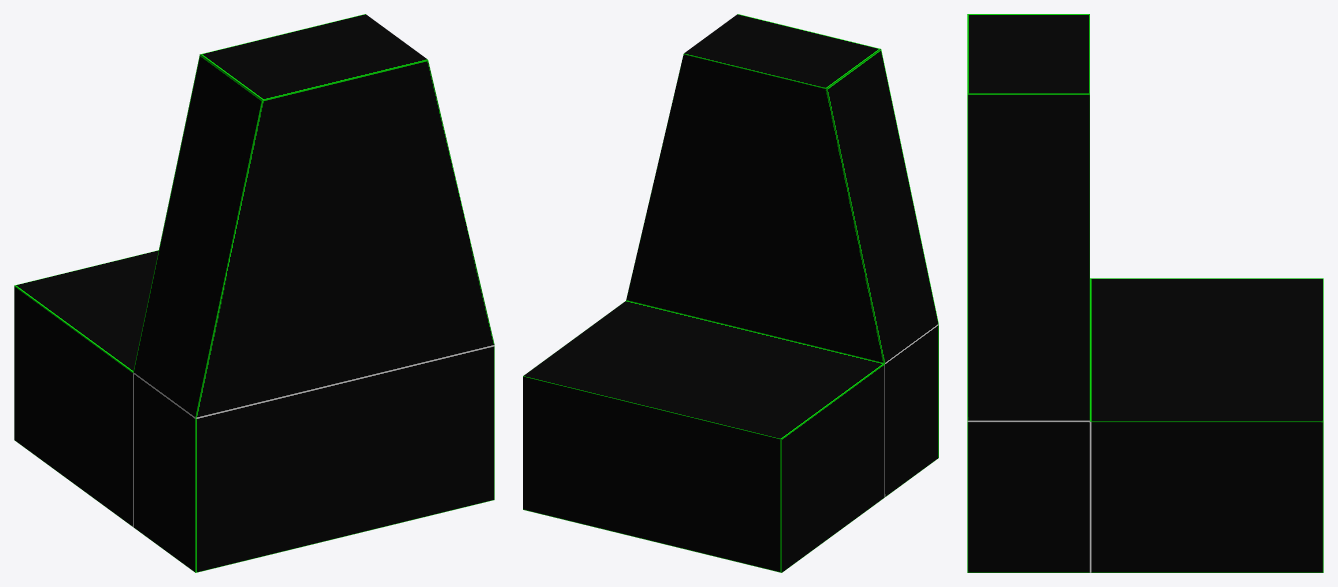
Rendered from Building_With_Tower.FBX.
The picture shows the model from 3 angles, left to right: view 1: azimuth 30°, elevation 25°; view 2: azimuth 150°, elevation 25°; view 3: azimuth 270°, elevation 25°; orthographic projection. The views are drawn at different scales.
Parts seen in each view (by area): view 1: Building_With_Tower; view 2: Building_With_Tower; view 3: Building_With_Tower.
Part boxes in pixels (x1,y1,x2,y2): Building_With_Tower: (14,14,494,572); Building_With_Tower: (523,14,938,572); Building_With_Tower: (967,14,1323,572).
Size of what is drawn, in the model's own units: 0.7971 by 1.16 by 0.8378.
1 material, 1 textured.
